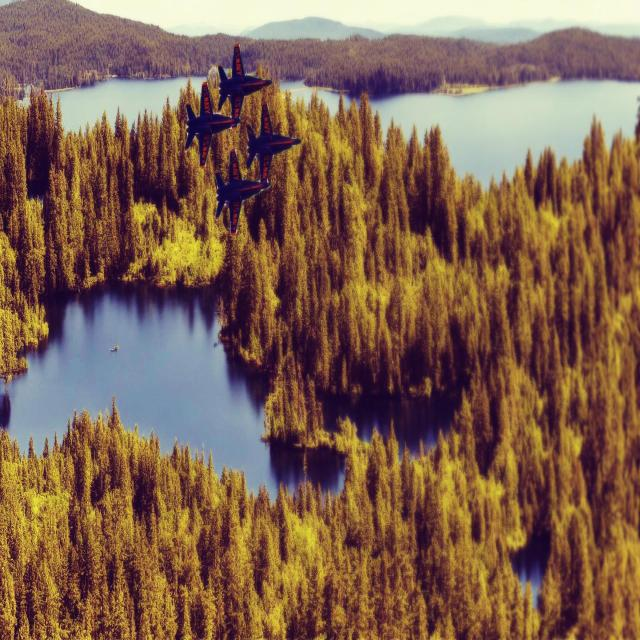airplane: (213, 148, 271, 236), (184, 79, 237, 168), (245, 102, 301, 185), (217, 42, 272, 126)
